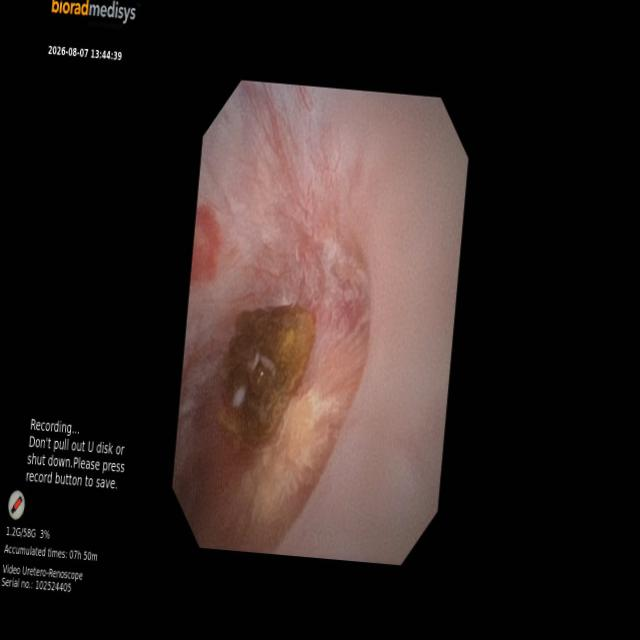stone-new: (219, 305, 314, 443)
